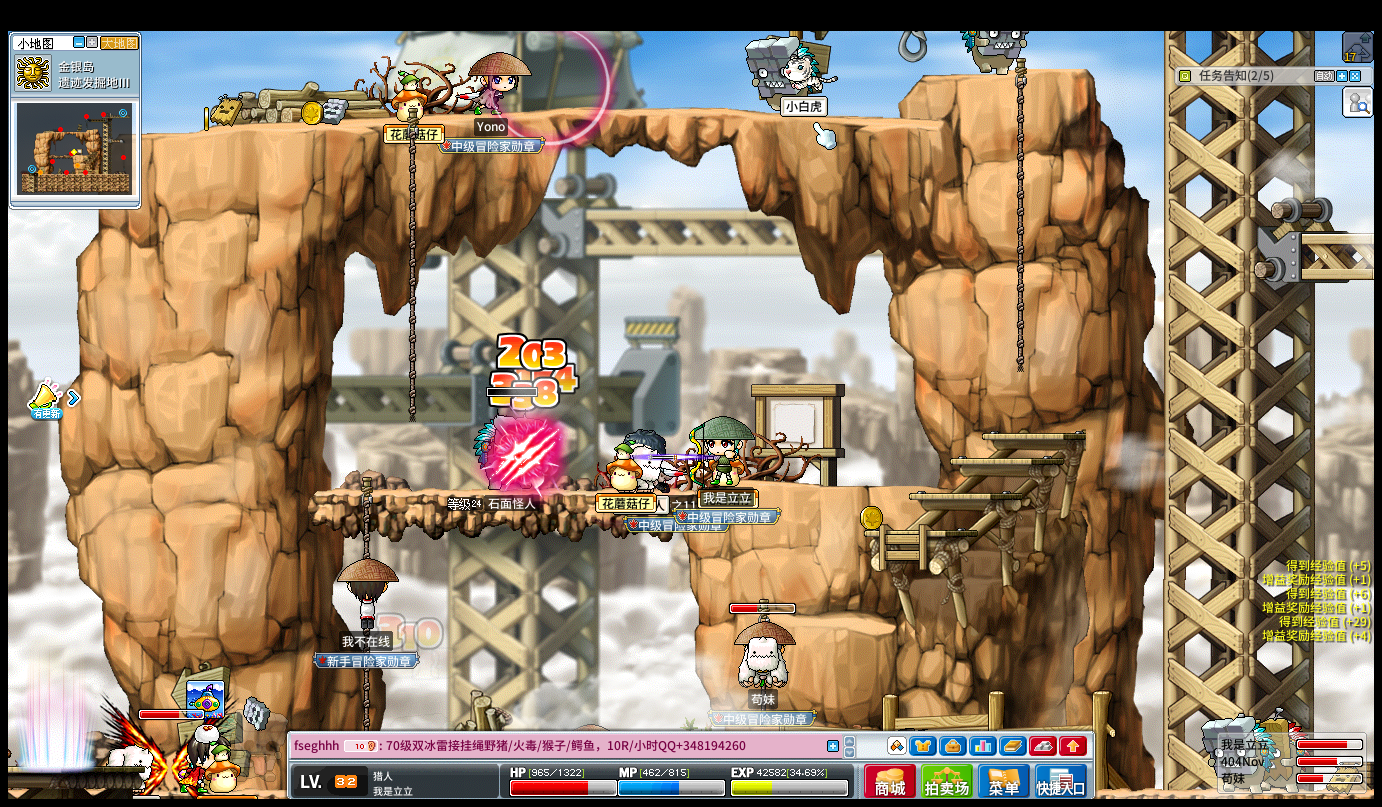floor: (151, 106, 949, 134), (311, 487, 679, 497), (918, 66, 1095, 80), (789, 612, 895, 634), (1296, 227, 1377, 245), (802, 481, 945, 491), (981, 429, 1086, 441), (942, 456, 1061, 465), (862, 528, 976, 537), (907, 492, 1023, 500)
monster: (472, 412, 553, 488), (1204, 716, 1274, 793), (743, 35, 789, 113), (1261, 714, 1302, 792)
rope: (1013, 53, 1028, 372), (405, 107, 418, 417), (359, 475, 373, 558), (361, 667, 371, 729)
